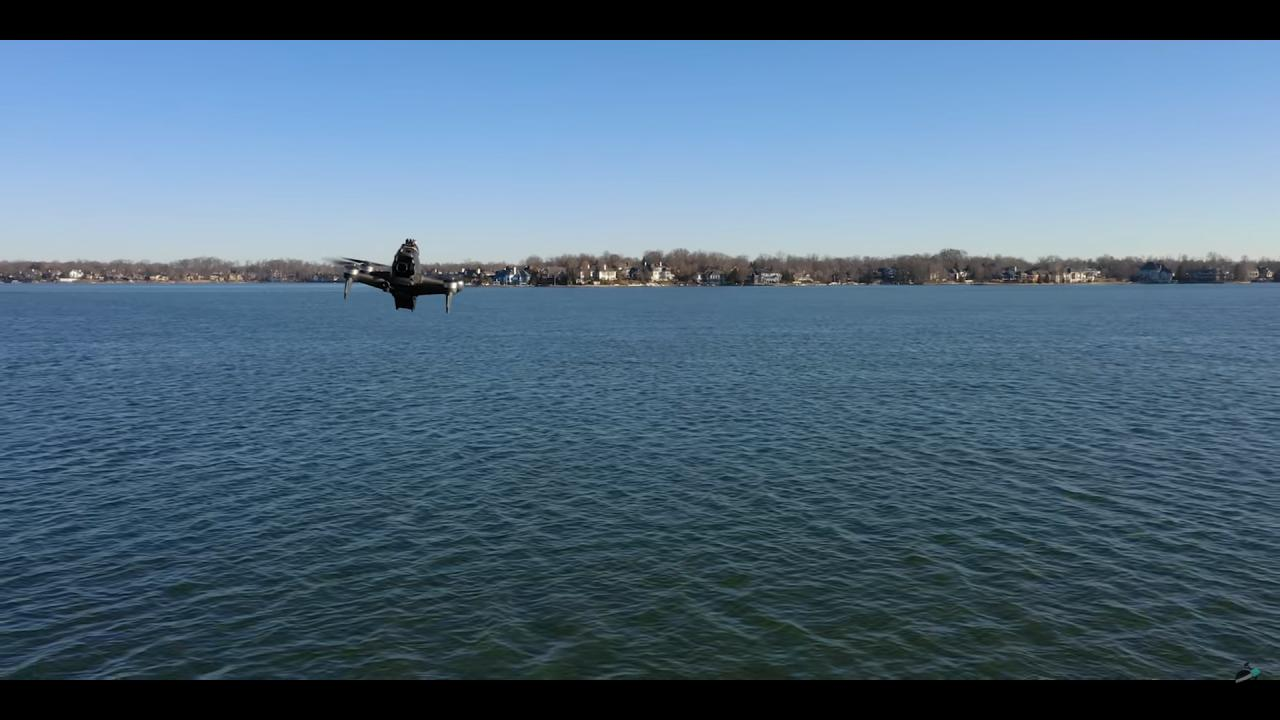Drone: (334, 234, 475, 325)
